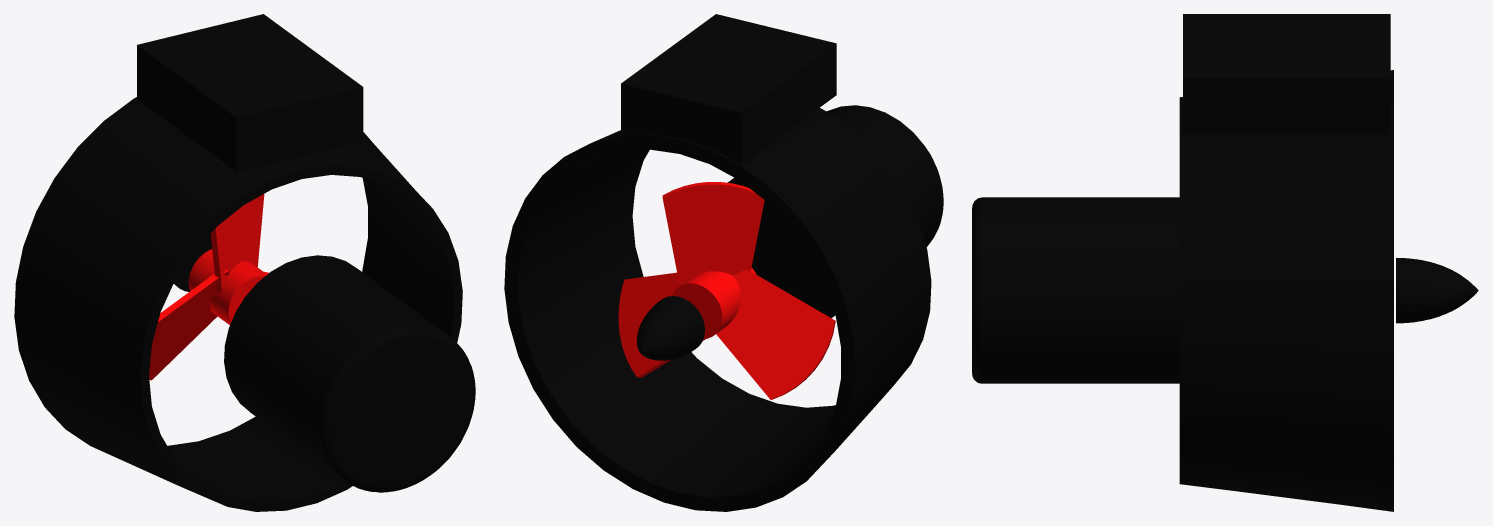
Rendered from Thruster_U92.gltf.
3 views of the same model, side by side, from view 1: azimuth 30°, elevation 25°; view 2: azimuth 150°, elevation 25°; view 3: azimuth 270°, elevation 25° (orthographic). The views are drawn at different scales.
Parts seen in each view (by area): view 1: Case001, Motor, MountingBracket, Blade003, Blade001, Hub001, Cover001; view 2: Case001, MountingBracket, Motor, Blade003, Blade001, Cover001, Blade002, Hub001; view 3: Case001, Motor, MountingBracket, Cover001.
Part boxes in pixels (<box>): Case001: <box>14,97,462,511</box>; Motor: <box>224,255,475,492</box>; MountingBracket: <box>137,14,363,171</box>; Blade003: <box>149,269,229,380</box>; Blade001: <box>210,194,264,293</box>; Hub001: <box>188,249,266,324</box>; Cover001: <box>173,234,211,291</box>; Case001: <box>504,107,931,511</box>; MountingBracket: <box>621,14,836,164</box>; Motor: <box>727,105,943,318</box>; Blade003: <box>716,269,835,399</box>; Blade001: <box>662,182,764,285</box>; Cover001: <box>637,296,704,360</box>; Blade002: <box>618,272,706,377</box>; Hub001: <box>672,268,756,338</box>; Case001: <box>1179,70,1393,511</box>; Motor: <box>972,197,1179,383</box>; MountingBracket: <box>1183,14,1390,134</box>; Cover001: <box>1396,257,1478,323</box>.
Size of the model in its own units: 0.1279 by 0.1417 by 0.1465.
